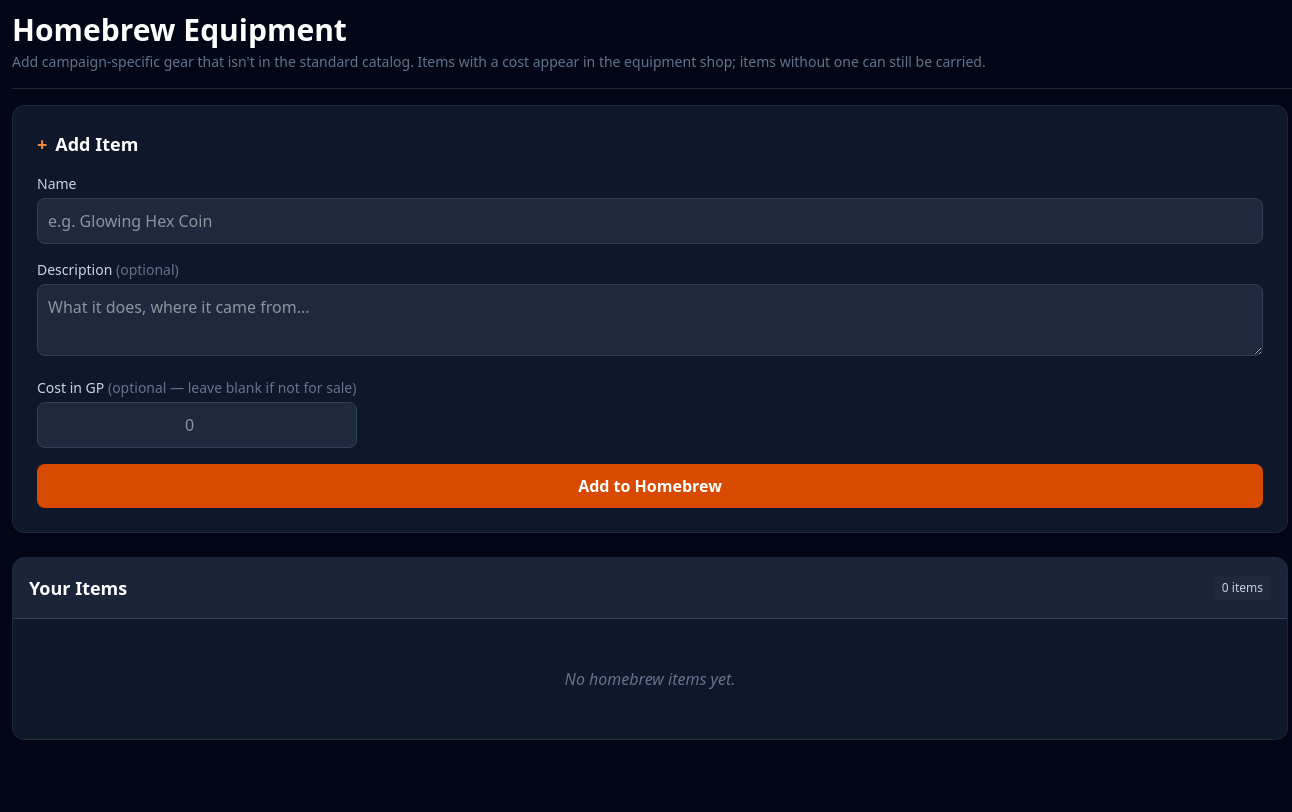
Test: HomebrewView › adding an item with a name and cost shows it in the list, priced
Type "Glowing Hex Coin" into the field labelled "Name" at (650, 221), box [37, 198, 1263, 244]
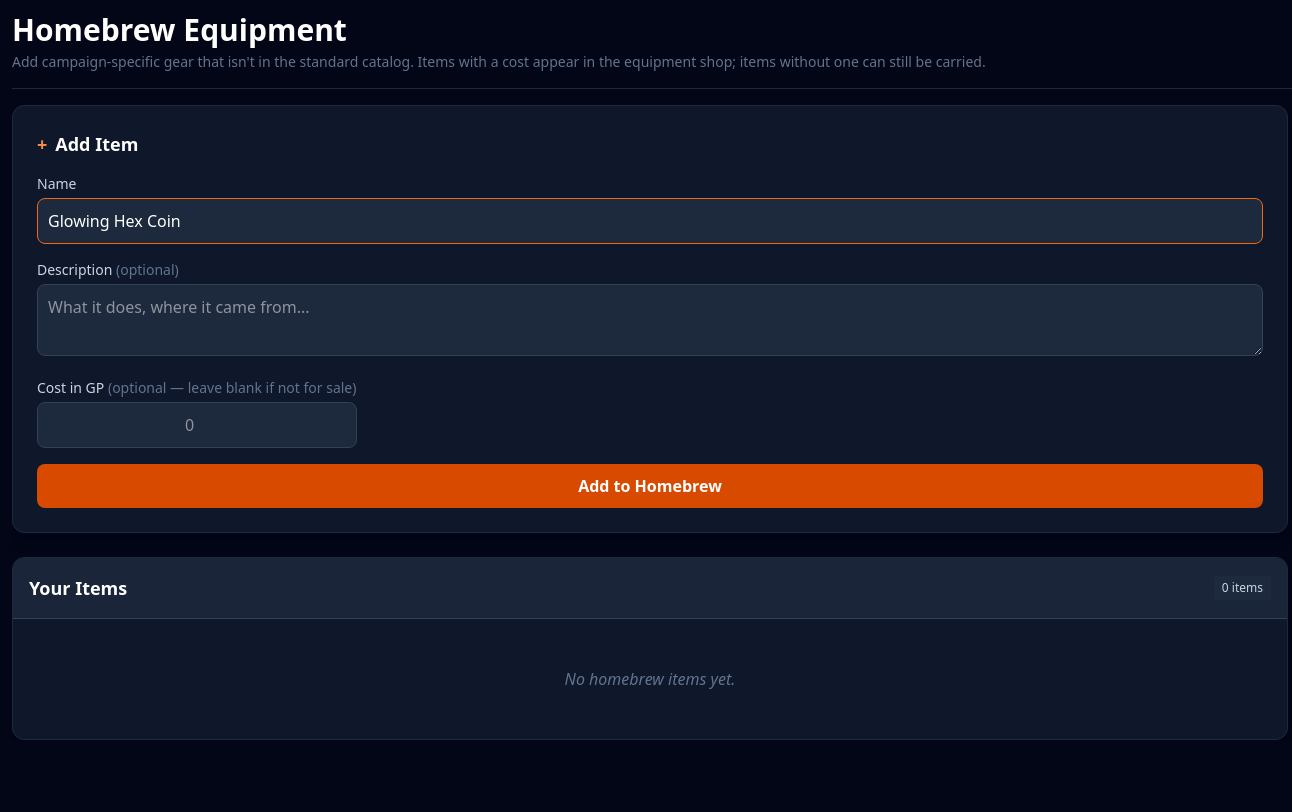
Type "12.5" into the number field labelled "Cost in GP (optional — leave blank if not for sale)" at (197, 425), box [37, 402, 357, 448]
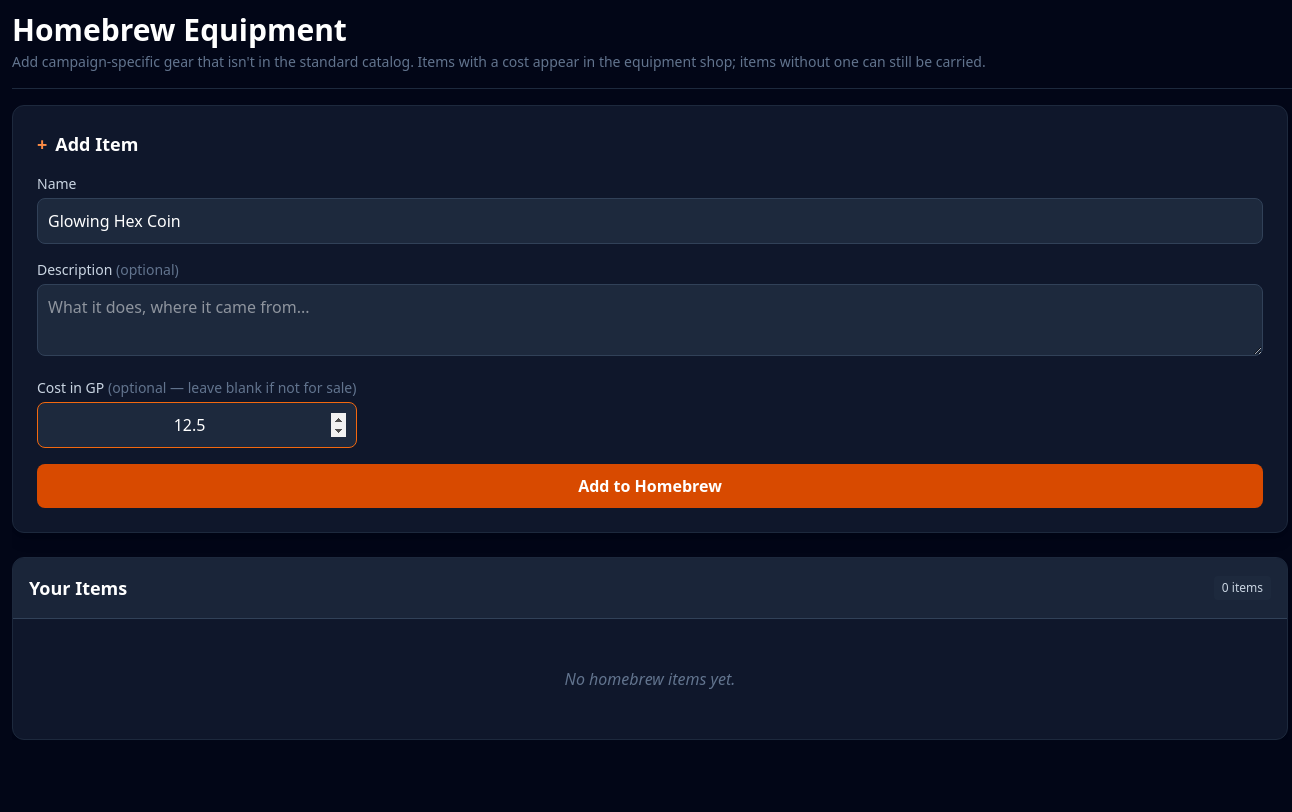
Click the button "Add to Homebrew" at (650, 486), box [37, 464, 1263, 508]
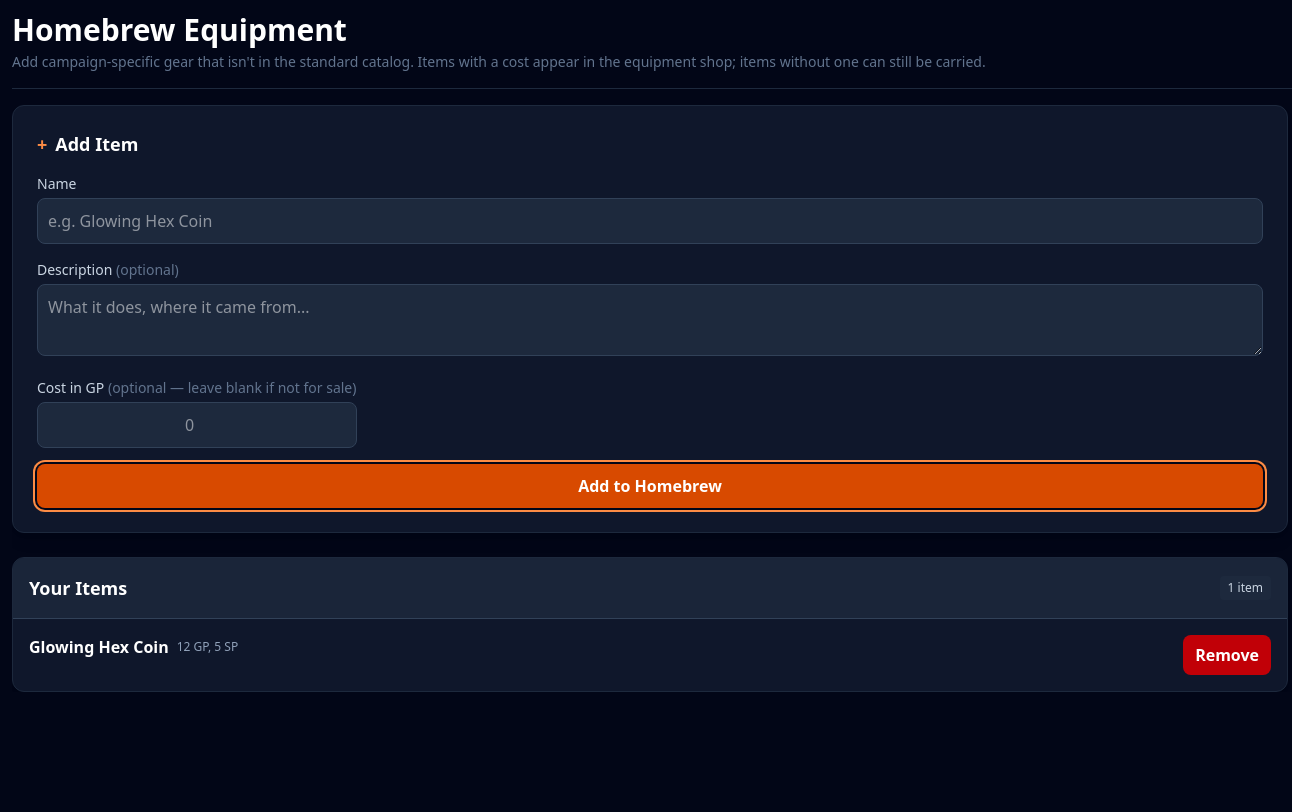
Expected: the text "Glowing Hex Coin" is shown, [29, 635, 169, 659]
Expected: the text "12 GP, 5 SP" is shown, [177, 639, 238, 655]
Expected: the text "1 item" is shown, [1220, 576, 1271, 600]
